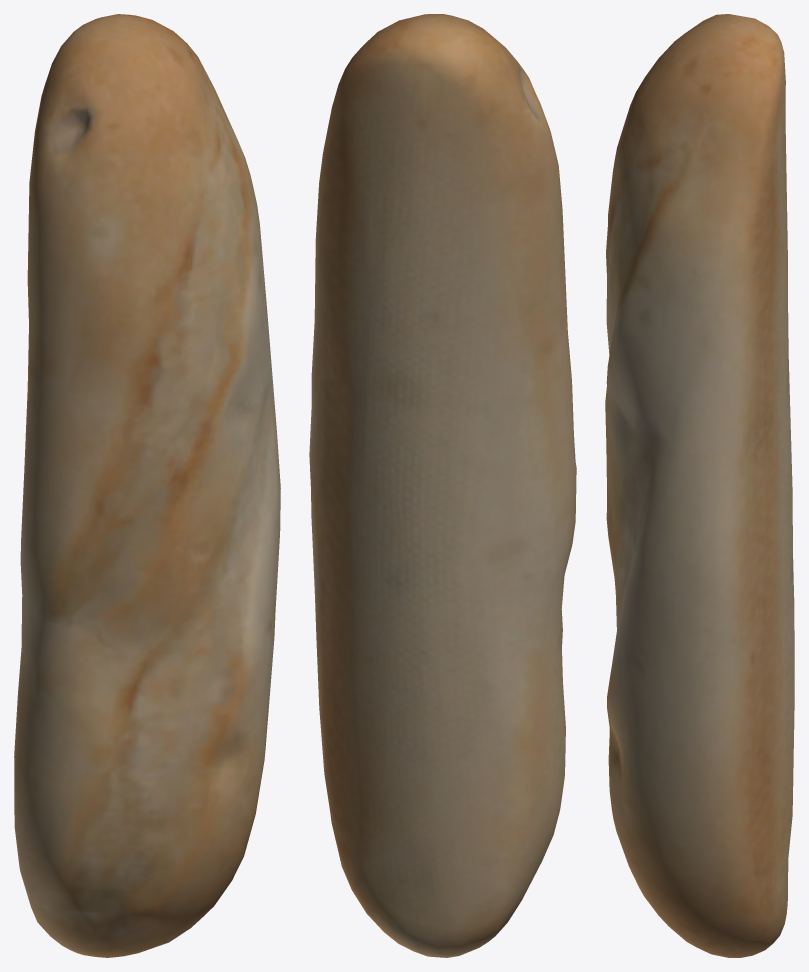
3 views of the same model, side by side, from view 1: azimuth 30°, elevation 25°; view 2: azimuth 150°, elevation 25°; view 3: azimuth 270°, elevation 25° (orthographic).
Parts seen in each view (by area): view 1: bread.002_0; view 2: bread.002_0; view 3: bread.002_0.
Part boxes in pixels (x1,y1,x2,y2): bread.002_0: (14, 14, 280, 957); bread.002_0: (309, 14, 576, 957); bread.002_0: (605, 14, 794, 957).
Bounding box in the file's own units: 0.0383 × 0.139 × 0.0258.
1 material, 1 textured.
